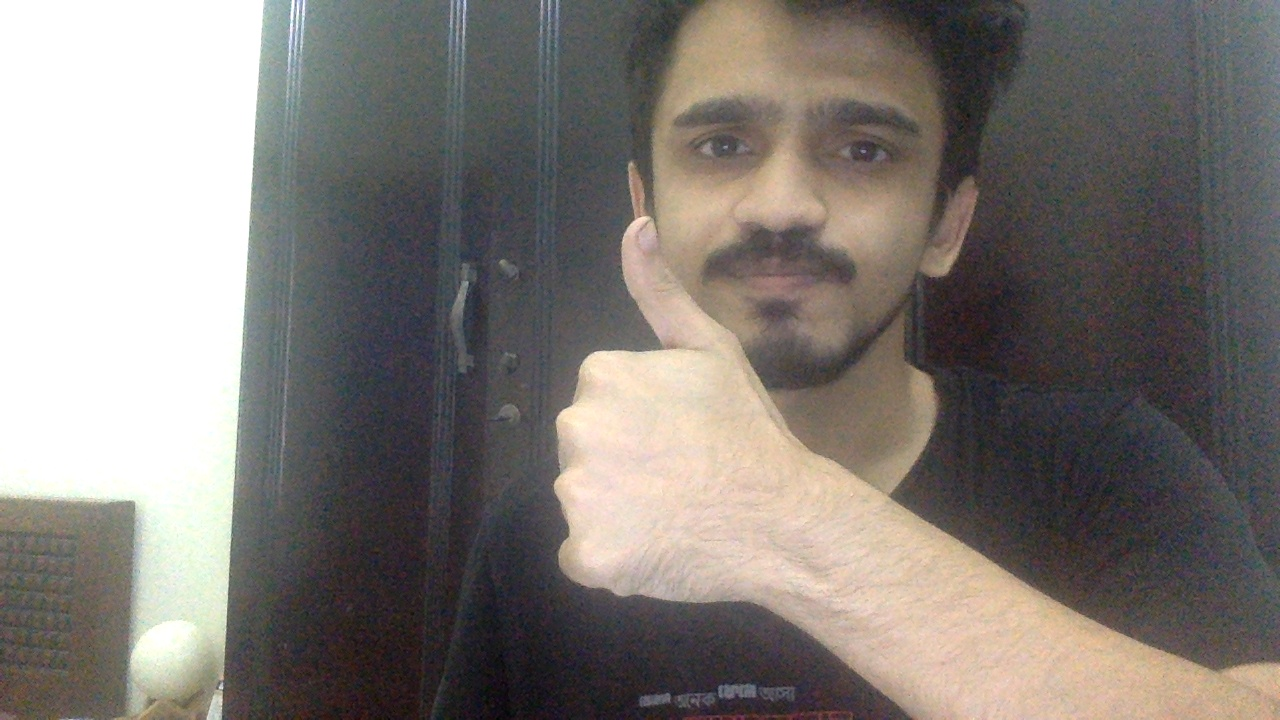good: (527, 214, 811, 611)
